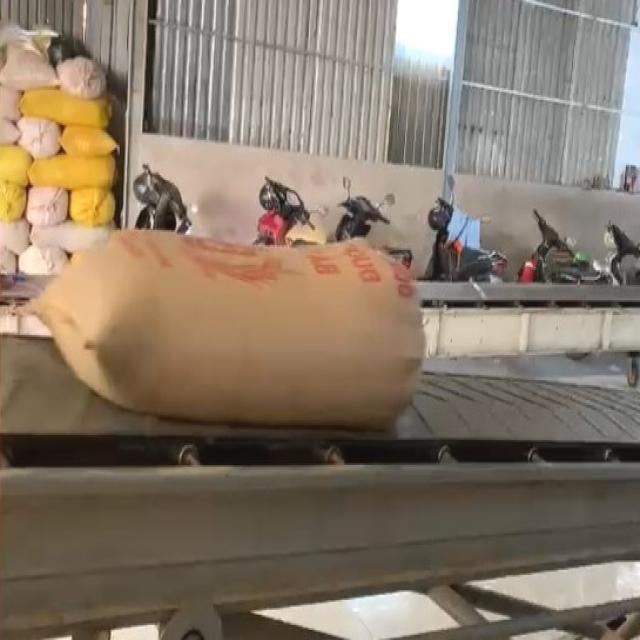gunny_bag: (33, 230, 423, 429)
